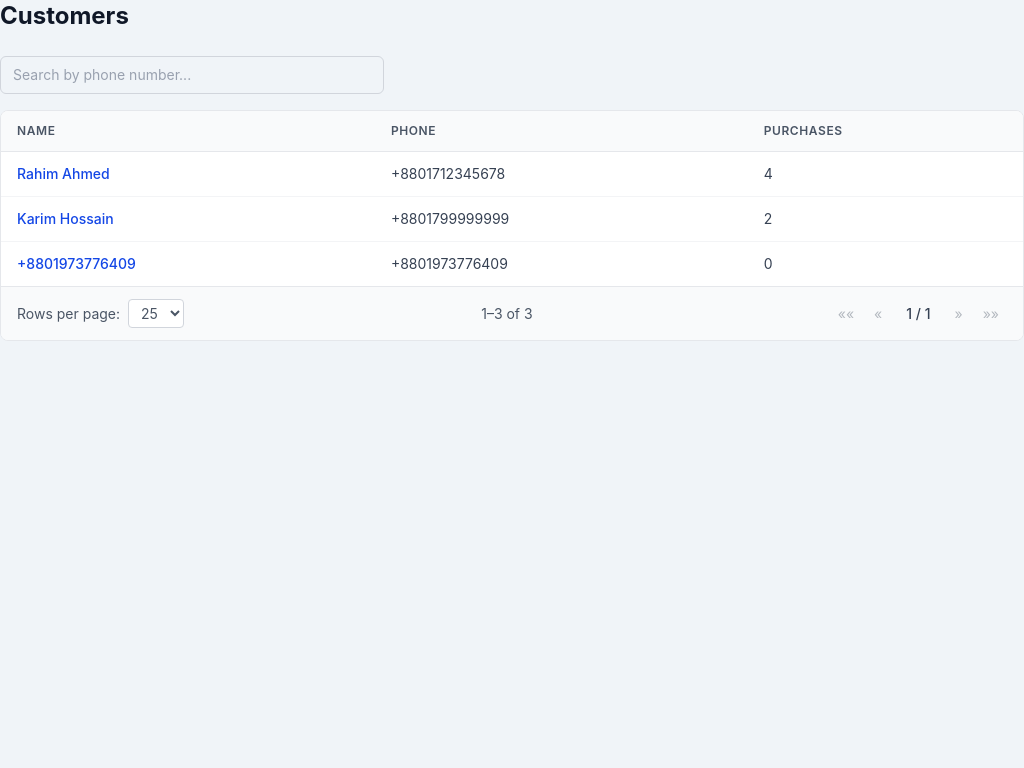
Test: CustomersPage › Customer Detail Panel › closes detail panel when close button is clicked
Step 1. Click the button "Rahim Ahmed" → (63, 174), box top-left (17, 164), bottom-right (110, 184)
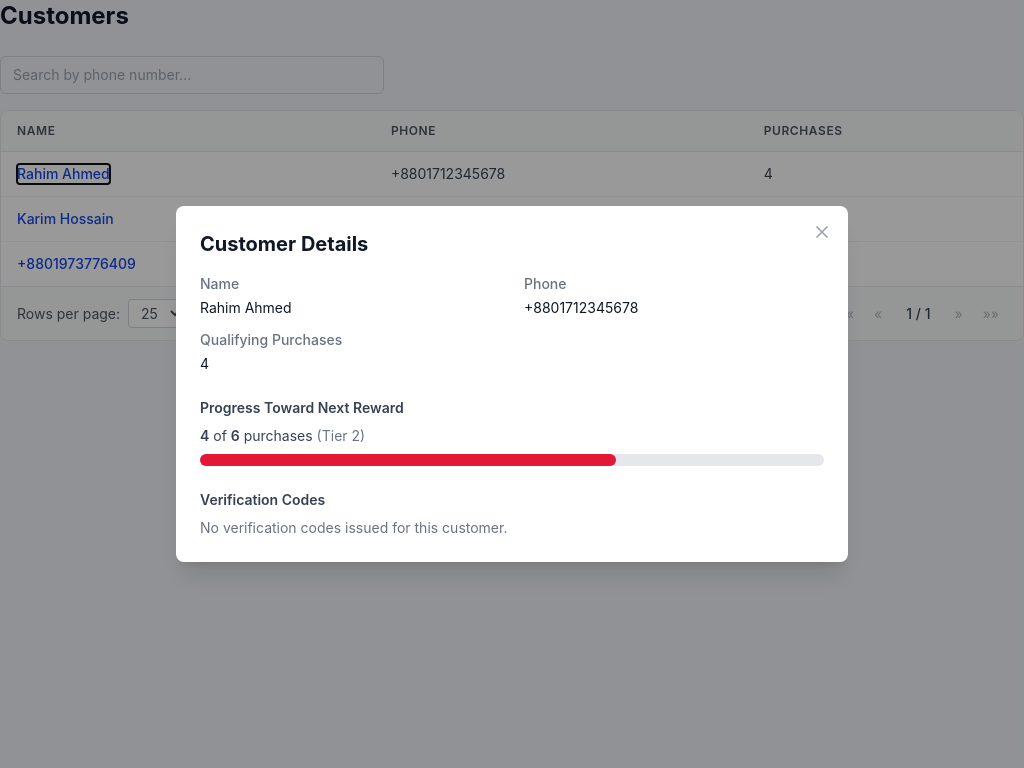
Expected: the dialog is shown, top-left (176, 206), bottom-right (848, 562)
Step 2. Click the button named "Close detail panel" → (822, 232), box top-left (812, 222), bottom-right (832, 242)
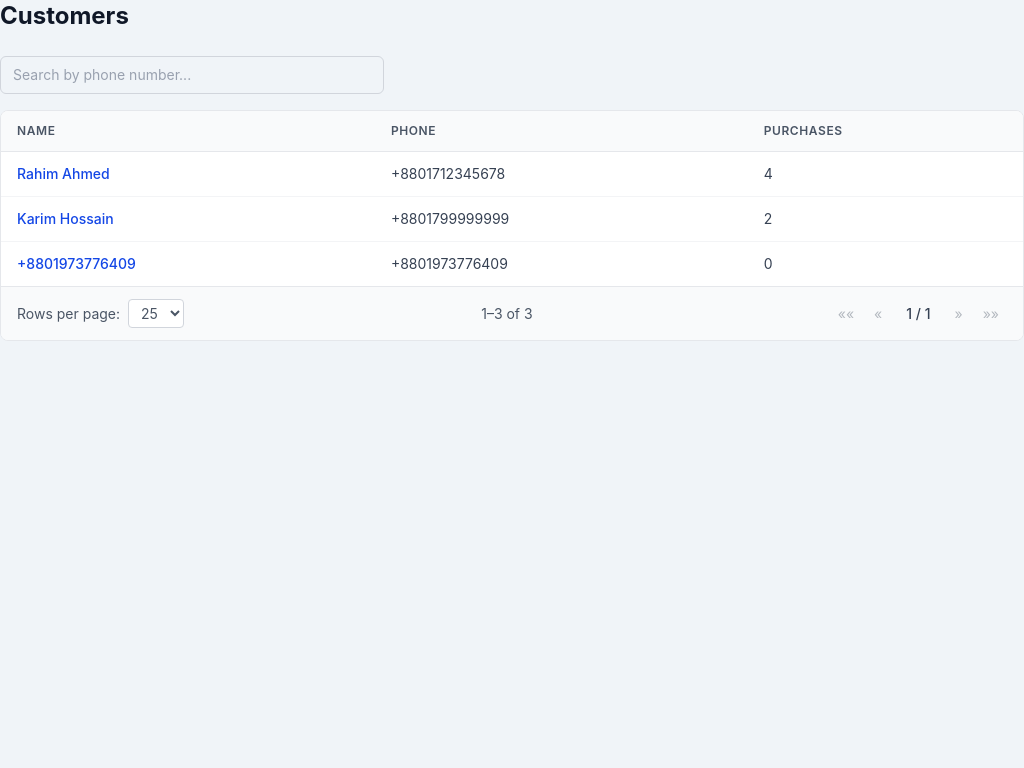
Expected: the dialog is gone
